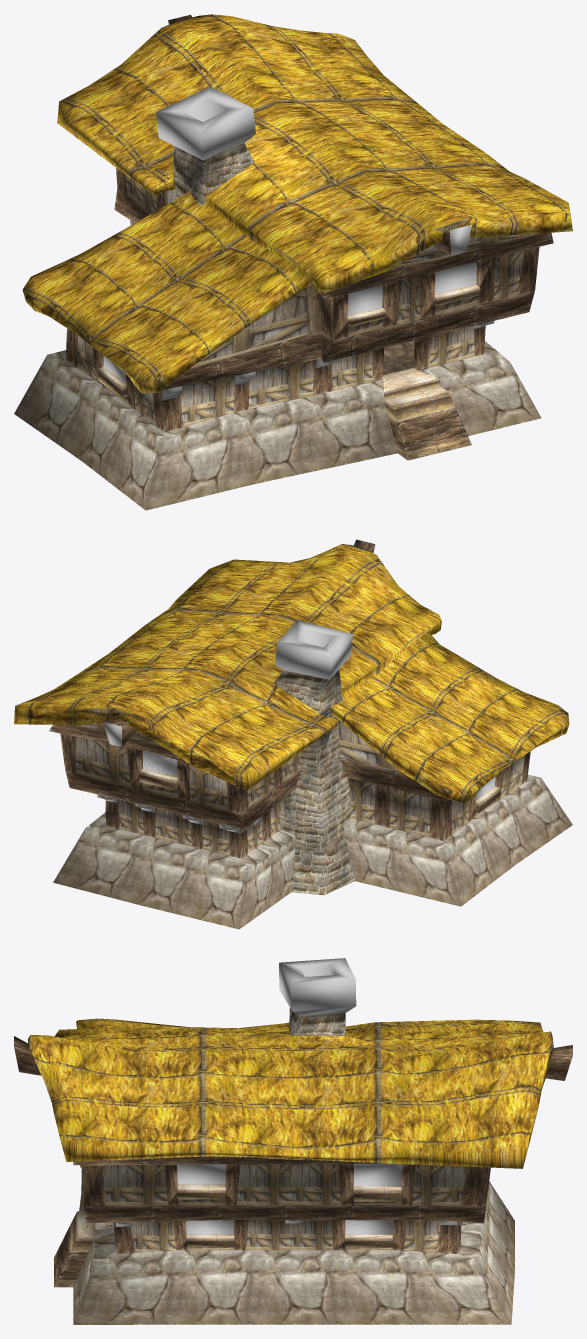
Rendered from westfall_humantwostory_set1.obj.
3 views of the same model, one above another, from view 1: azimuth 30°, elevation 25°; view 2: azimuth 150°, elevation 25°; view 3: azimuth 270°, elevation 25° (orthographic). The views are drawn at different scales.
Visible parts, largest first — view 1: exterior2, exterior3, exterior5, exterior7, exterior1, exterior0, exterior8, exterior4, entrance1; view 2: exterior2, exterior3, exterior5, exterior7, exterior0, exterior1, exterior4, exterior8, upperback5; view 3: exterior2, exterior3, exterior5, exterior7, exterior1, exterior8, exterior0.
Part boxes in pixels (<box>): exterior2: <box>22,14,572,393</box>; exterior3: <box>14,341,541,510</box>; exterior5: <box>65,14,553,460</box>; exterior7: <box>78,175,540,427</box>; exterior1: <box>156,86,255,160</box>; exterior0: <box>173,143,254,205</box>; exterior8: <box>103,262,476,383</box>; exterior4: <box>130,220,494,400</box>; entrance1: <box>383,340,414,374</box>; exterior2: <box>14,544,569,802</box>; exterior3: <box>53,774,572,929</box>; exterior5: <box>49,539,530,858</box>; exterior7: <box>75,720,524,855</box>; exterior0: <box>273,669,354,895</box>; exterior1: <box>274,620,353,679</box>; exterior4: <box>97,722,260,833</box>; exterior8: <box>143,750,495,799</box>; upperback5: <box>143,750,177,776</box>; exterior2: <box>28,1018,554,1168</box>; exterior3: <box>73,1168,514,1324</box>; exterior5: <box>14,1036,572,1287</box>; exterior7: <box>102,1163,466,1252</box>; exterior1: <box>279,958,356,1016</box>; exterior8: <box>177,1163,401,1234</box>; exterior0: <box>289,1008,345,1035</box>.
Size of the model in its own units: 32.25 by 19.08 by 37.3.
